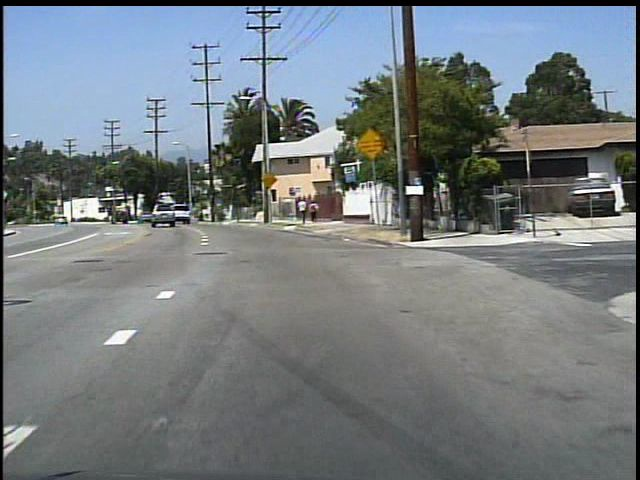person: (296, 196, 309, 225), (308, 198, 319, 224)
